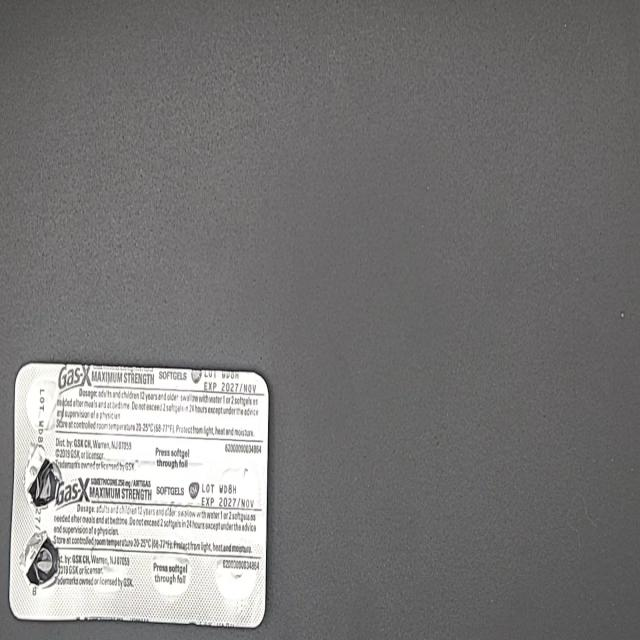defect: (22, 438, 62, 513), (16, 527, 62, 591)
